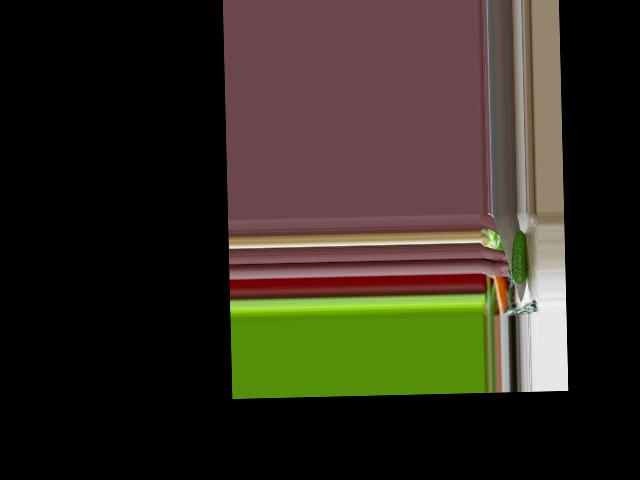cucumber: (511, 231, 528, 284)
